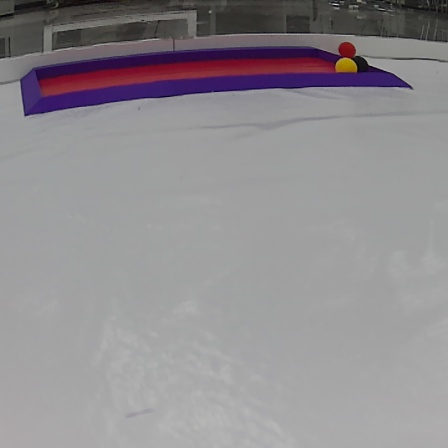black: (355, 55, 370, 71)
red: (337, 42, 357, 55)
red_aim: (11, 43, 418, 118)
yellow: (335, 57, 355, 72)
